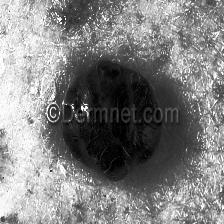Benign Marking or Mole: (61, 61, 165, 182)
